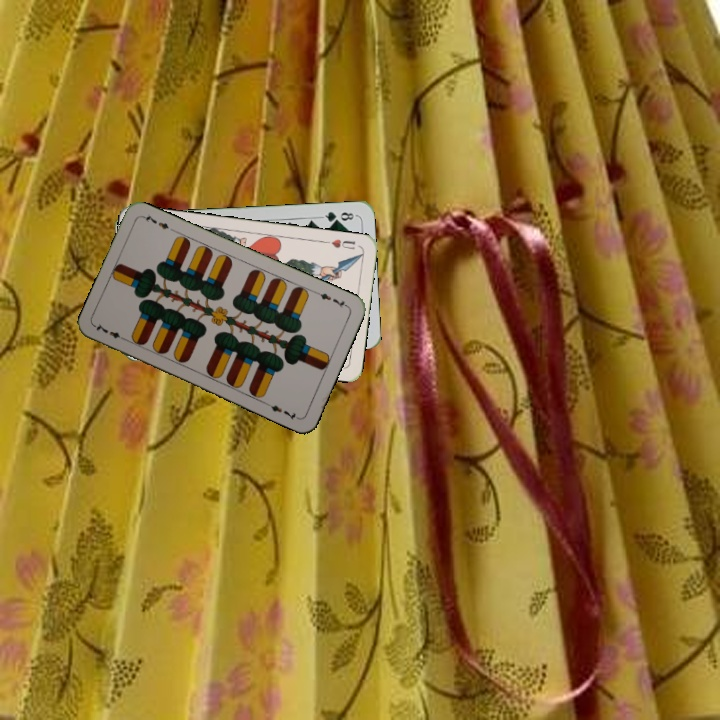E7: (91, 319, 130, 344), (312, 287, 350, 310)
G8: (318, 207, 358, 225)
HU: (321, 235, 358, 252)
